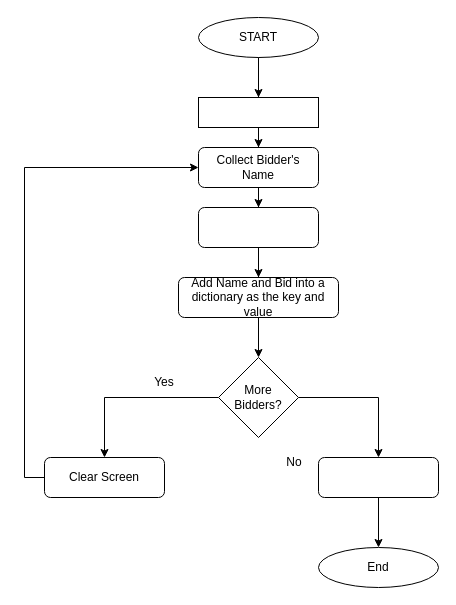
This 456x605 diagram has some shape labels left out. Here are the shapes that lost their labels. From the top down, the centre of each, then its label:
At point 258,112: "Show Logo from art.py".
At point 258,227: "Collect Bidder's Bid".
At point 378,477: "Calculate and display Highest Bidder".
